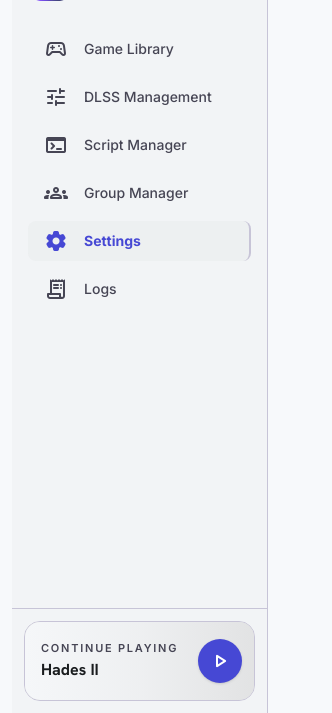
it: Sidebar › navigates to the library and launches the game when the card is clicked
Click the button with test id "launch-game-button" at [140, 661], box [24,621,255,701]
(page scrolled)
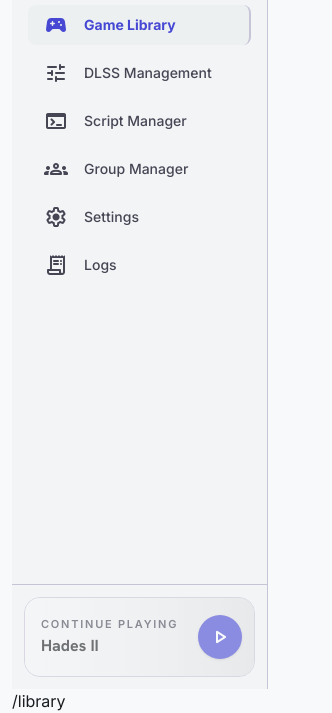
Result: the text with test id "location" reads "/library" at [12,691,66,711]
